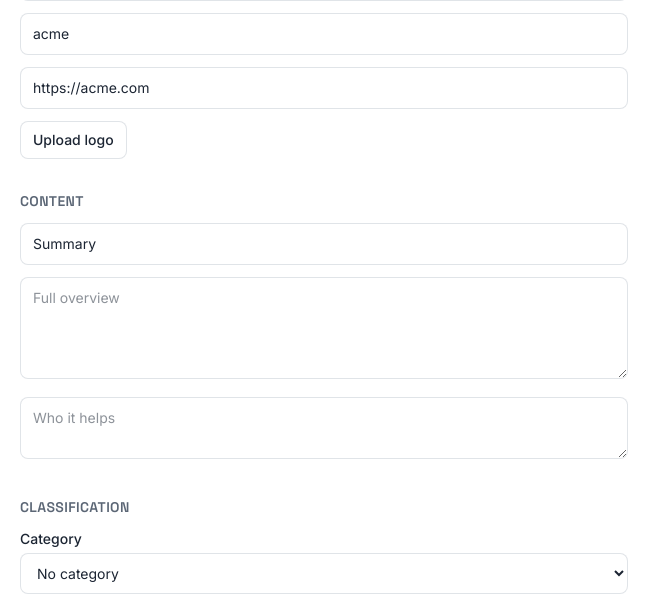
it: SiteForm category › reveals the name field when 'Add a new category' is chosen
Expected: the field labelled "new category name" is not shown
Step 1. Select "+ Add a new category…" in the dropdown labelled "Category" → (324, 574), box [20, 553, 628, 594]
(page scrolled)
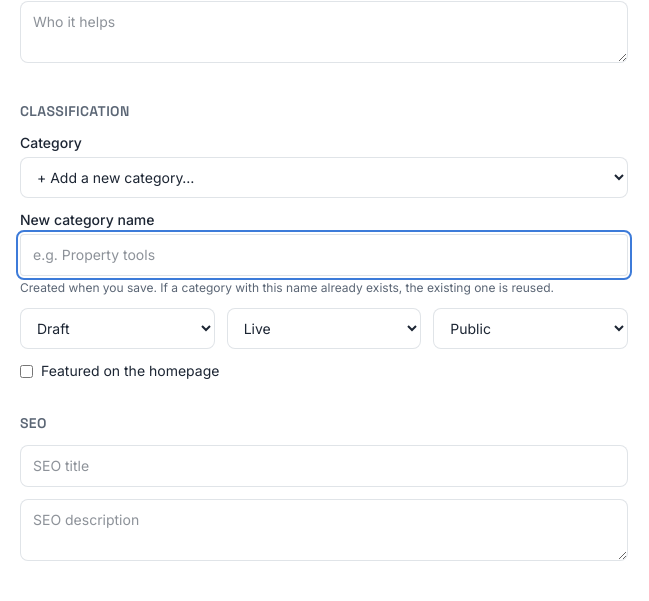
Result: the field labelled "New category name" is shown at [20, 234, 628, 276]
